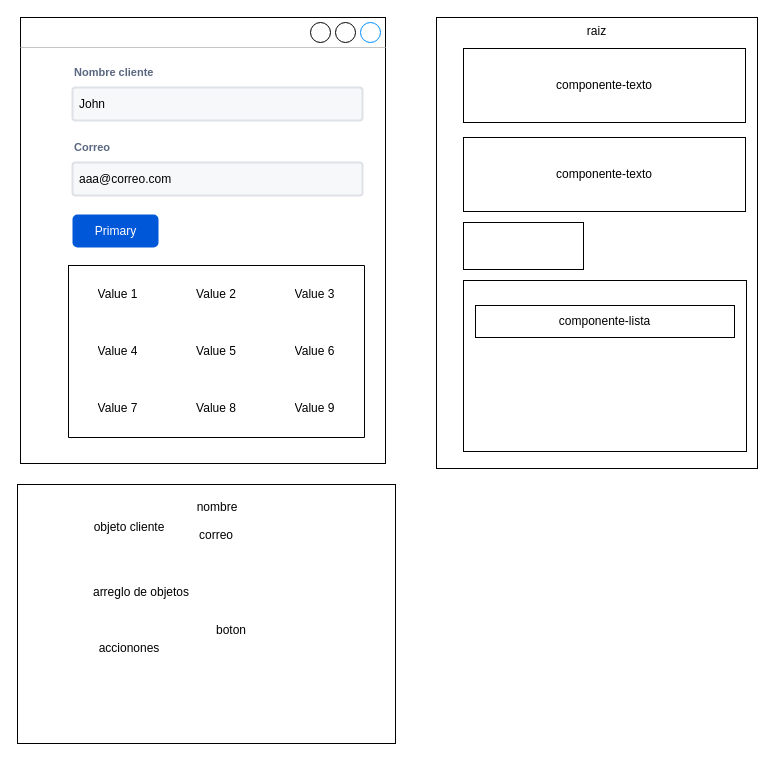
Image size: 775x761. Some labels were removed from this diagram. Here are the shapes that lost their labels. From the top down, the box of each, then its label:
(20, 16, 386, 464): Clientes
(462, 222, 584, 270): componente-boton
(462, 280, 746, 452): componente-tabla
